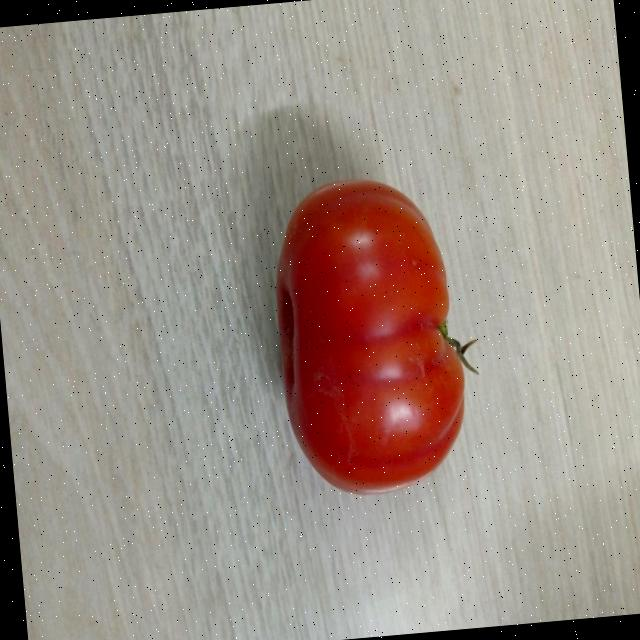Tomato: (264, 164, 494, 501)
